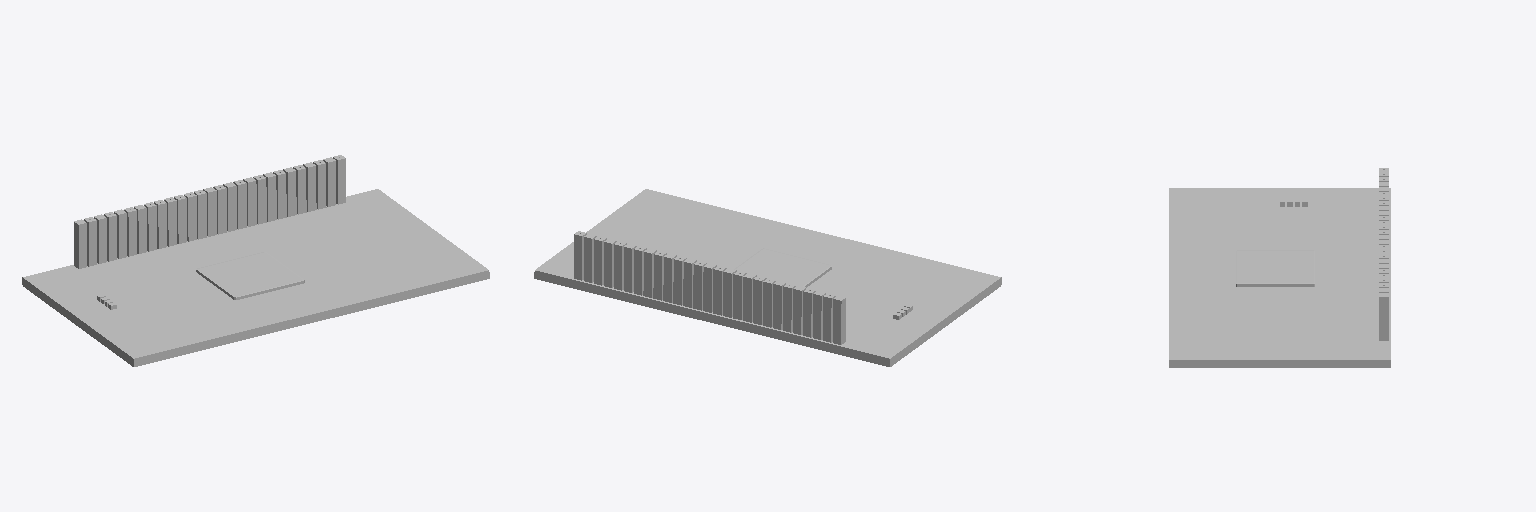
File: arduino-due.obj
3 views of the same model, side by side, from view 1: azimuth 30°, elevation 25°; view 2: azimuth 150°, elevation 25°; view 3: azimuth 270°, elevation 25° (orthographic).
Parts seen in each view (by area): view 1: PCB, CHIP, Pin_1_SCL1; view 2: PCB, CHIP, Pin_1_SCL1; view 3: PCB, CHIP.
Part boxes in pixels (x1,y1,x2,y2): PCB: (22, 189, 489, 366); CHIP: (196, 252, 304, 299); Pin_1_SCL1: (74, 219, 86, 268); PCB: (534, 189, 1001, 366); CHIP: (734, 248, 831, 287); Pin_1_SCL1: (833, 295, 845, 344); PCB: (1169, 188, 1390, 367); CHIP: (1236, 250, 1314, 286).
Bounding box in the file's own units: 4.28 × 0.6286 × 2.32.